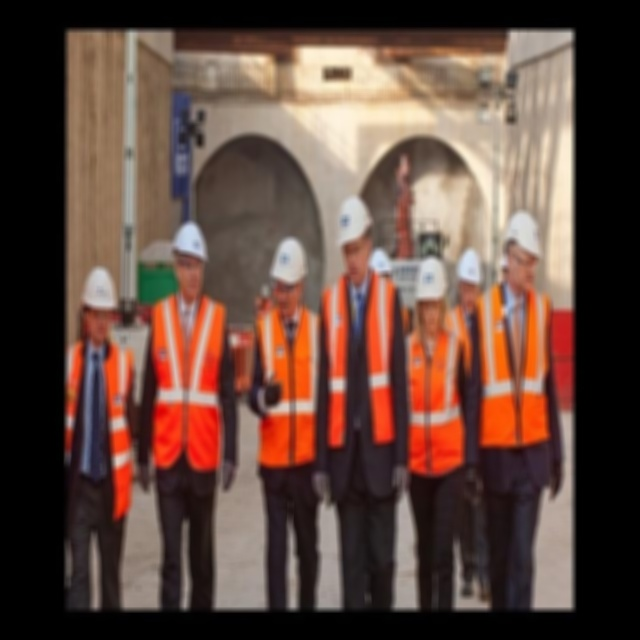Con_Chaleco: (149, 291, 229, 490), (480, 282, 556, 457), (325, 270, 395, 454), (67, 343, 134, 516), (253, 309, 320, 481), (406, 324, 466, 478)
